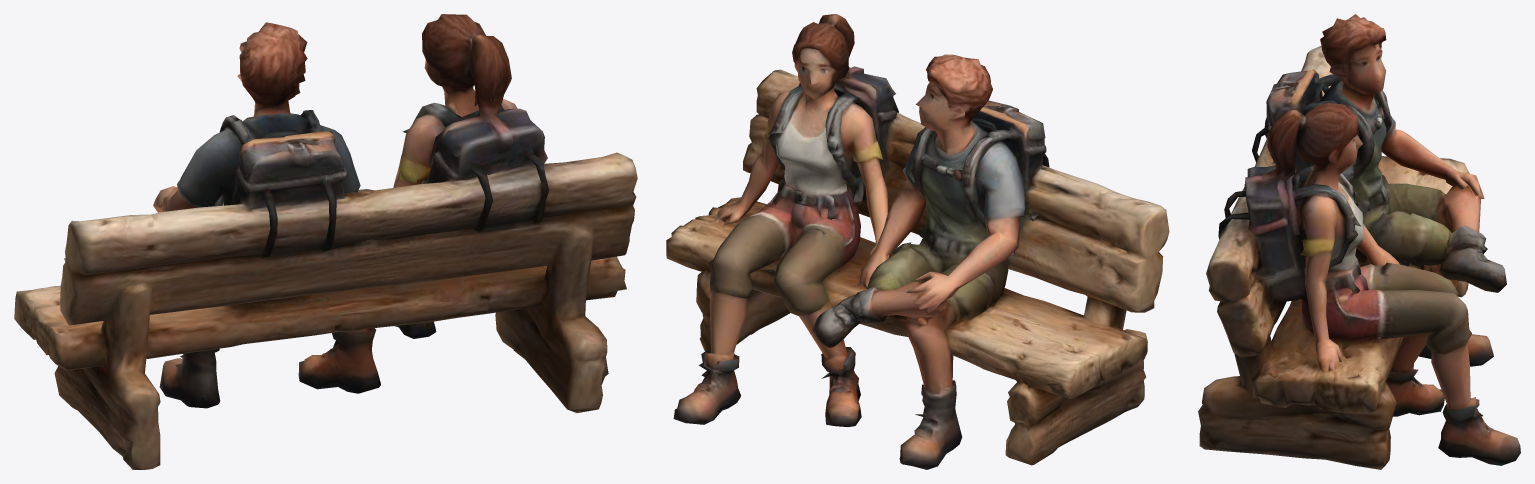
The model's file is bank_wanderer.glb.
3 views of the same model, side by side, from view 1: azimuth 30°, elevation 25°; view 2: azimuth 150°, elevation 25°; view 3: azimuth 270°, elevation 25° (orthographic). The views are drawn at different scales.
Parts seen in each view (by area): view 1: tripo_node_18470c6b-3090-4a83-be6f-de3d55a26ee6; view 2: tripo_node_18470c6b-3090-4a83-be6f-de3d55a26ee6; view 3: tripo_node_18470c6b-3090-4a83-be6f-de3d55a26ee6.
Boxes of the visible parts, bbox=[...] form: tripo_node_18470c6b-3090-4a83-be6f-de3d55a26ee6: bbox=[14, 14, 637, 469]; tripo_node_18470c6b-3090-4a83-be6f-de3d55a26ee6: bbox=[666, 14, 1169, 469]; tripo_node_18470c6b-3090-4a83-be6f-de3d55a26ee6: bbox=[1198, 14, 1520, 469].
Size of the model in its own units: 1 by 0.7241 by 0.6031.
Materials: 1 (1 with a texture image).
